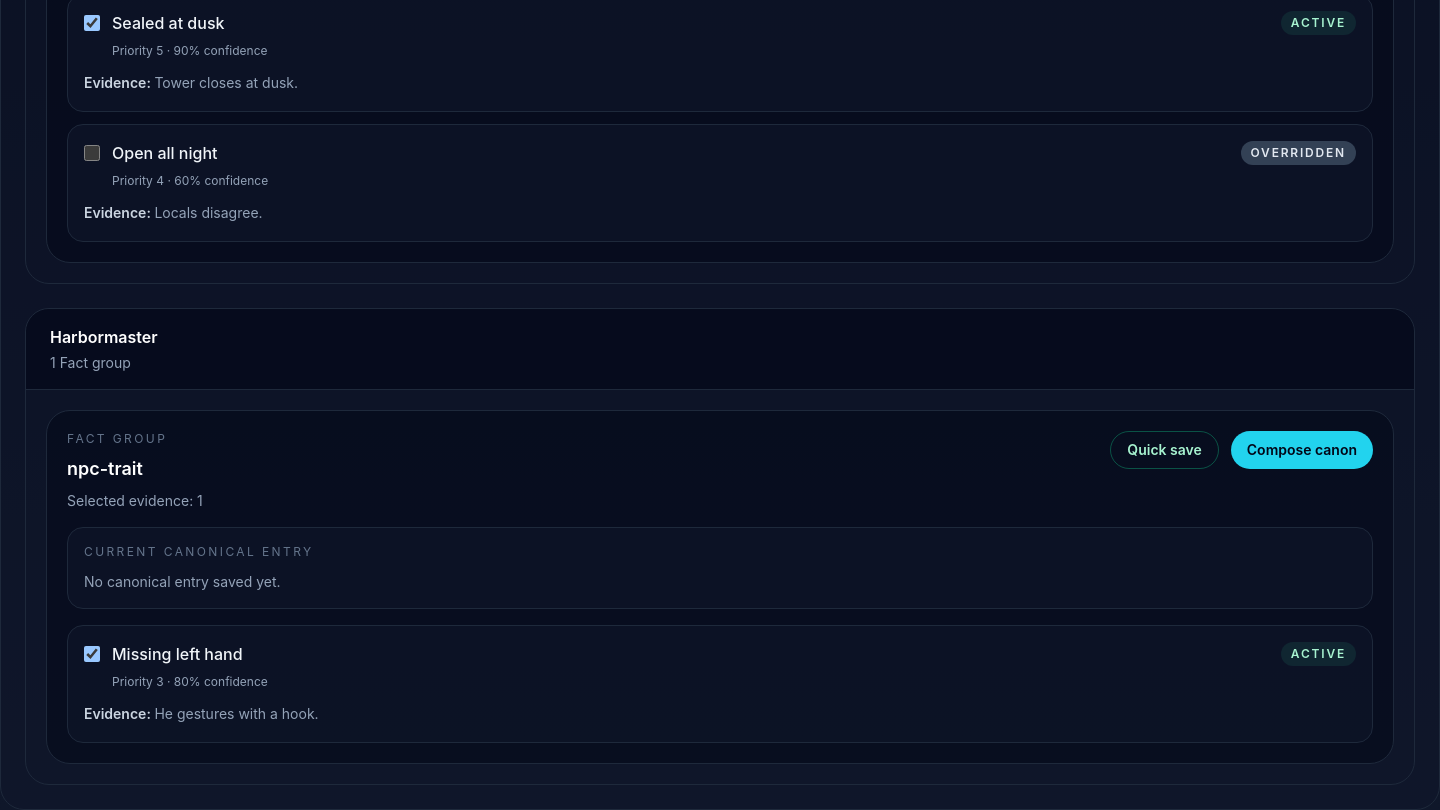
CanonReviewTable › disables compose actions while a quick save is in flight
The width and height of the screenshot is (1440, 810).
(page scrolled)
Click the button "Quick save".
click(1165, 450)  # box 1110,431 -> 1219,469
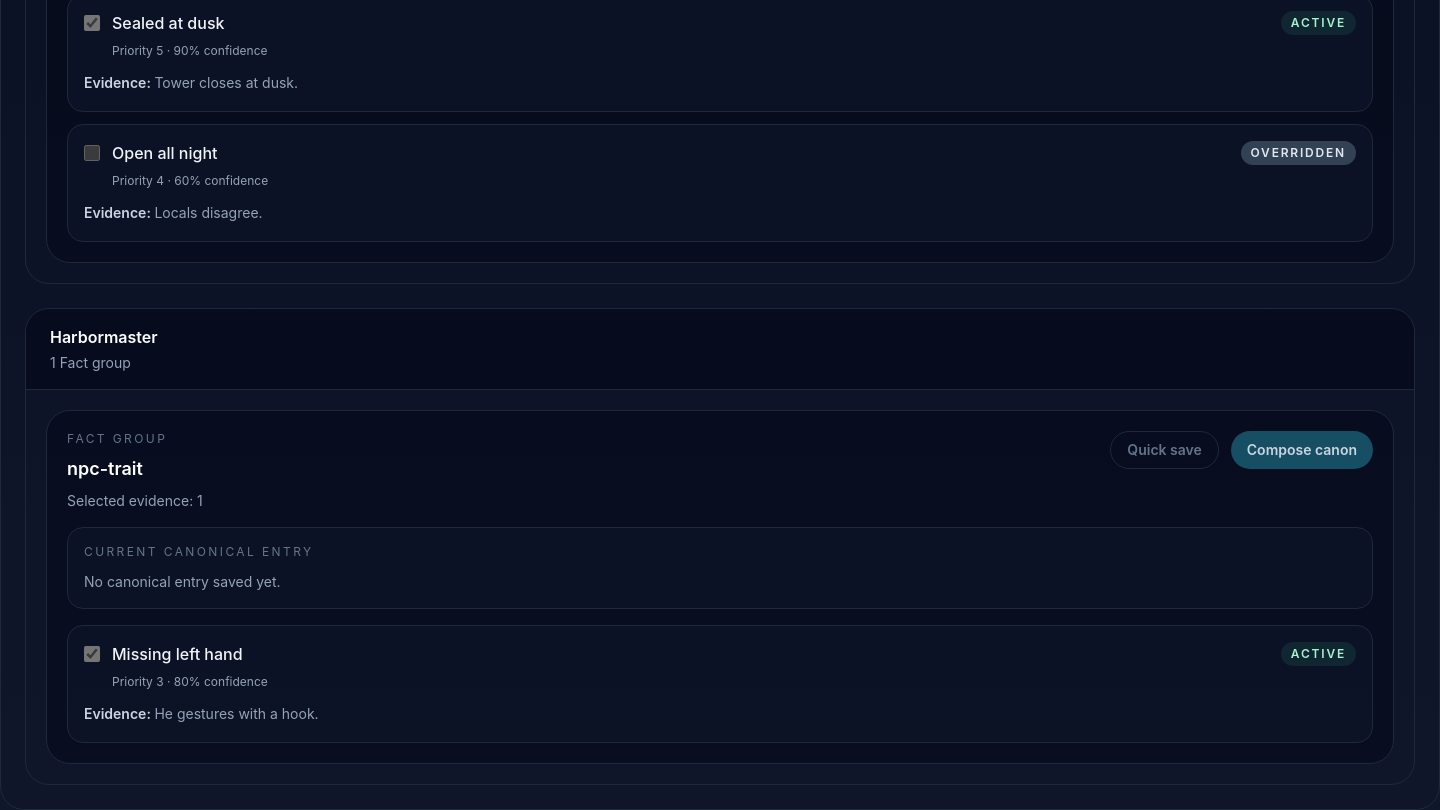
expect the button "Quick save" is disabled: met, box 1110,431 -> 1219,469
